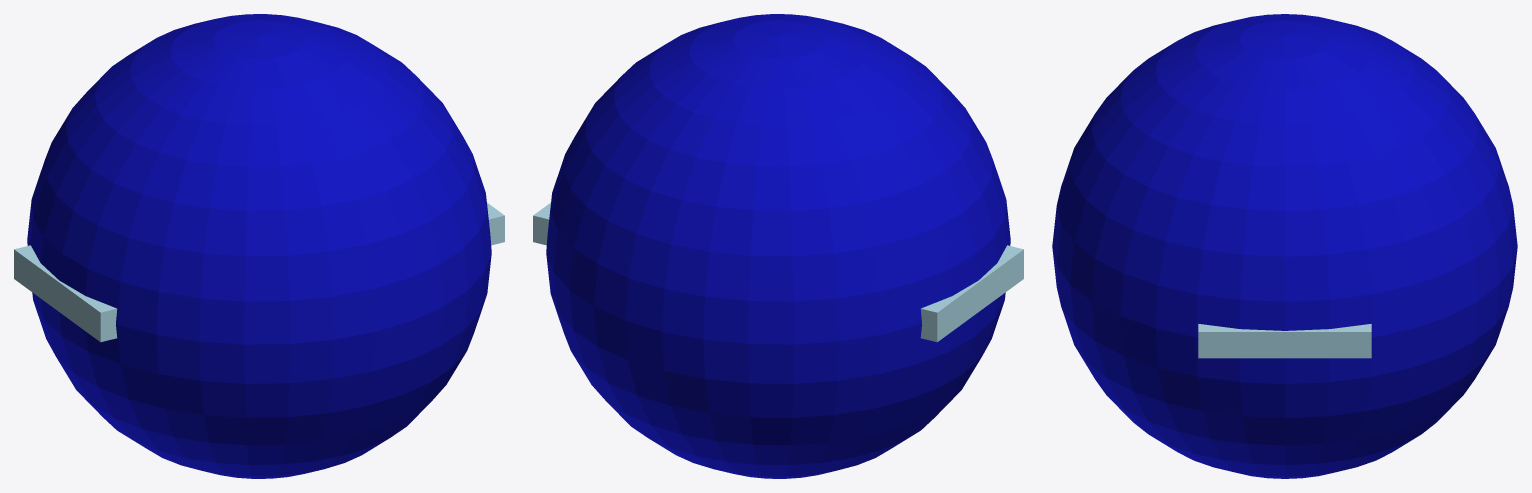
File: Final Electron 2.gltf
3 renders of one model, left to right at view 1: azimuth 30°, elevation 25°; view 2: azimuth 150°, elevation 25°; view 3: azimuth 270°, elevation 25°, orthographic.
Visible parts, largest first — view 1: Sphere, Cube.001, Cube; view 2: Sphere, Cube.001, Cube; view 3: Sphere, Cube.
Boxes of the visible parts, x1,y1,x2,y2 form: Sphere: (27,14,491,478); Cube.001: (14,245,117,342); Cube: (487,202,504,245); Sphere: (546,14,1010,478); Cube.001: (920,245,1023,342); Cube: (533,202,550,245); Sphere: (1052,14,1517,478); Cube: (1198,324,1371,358).
Bounding box in the file's own units: 2.01 × 2 × 2.
